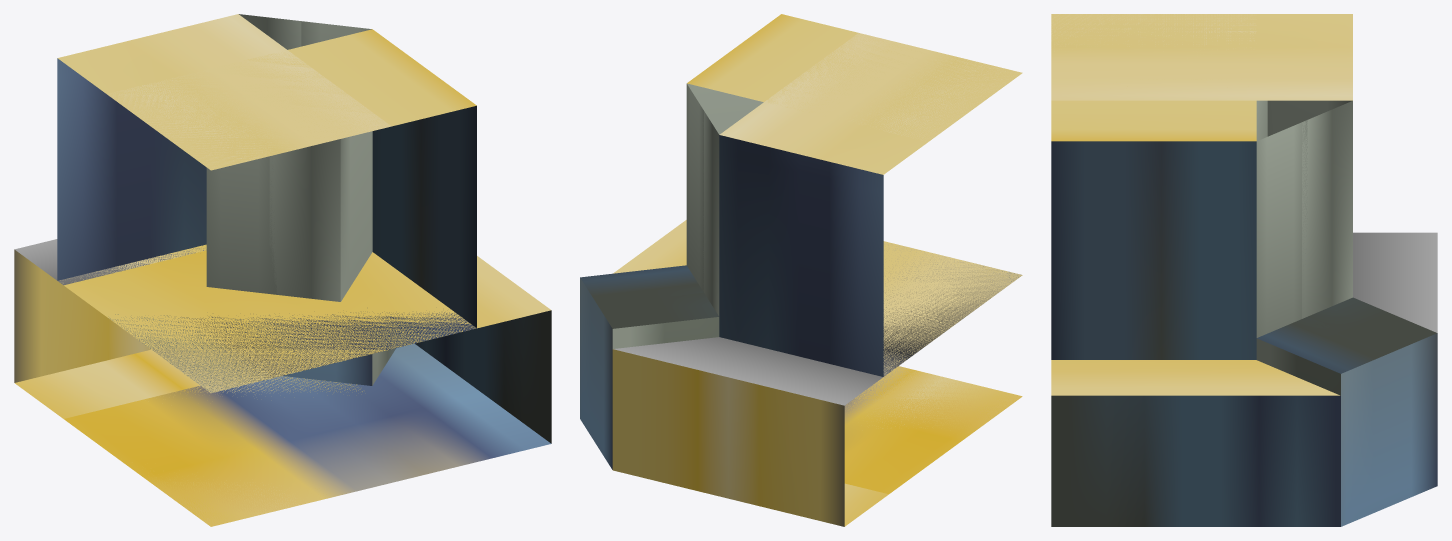
The picture shows the model from 3 angles, left to right: view 1: azimuth 30°, elevation 25°; view 2: azimuth 150°, elevation 25°; view 3: azimuth 270°, elevation 25°; orthographic projection. The views are drawn at different scales.
Visible parts, largest first — view 1: frame; view 2: frame; view 3: frame.
Part boxes in pixels (x1,y1,x2,y2): frame: [14, 14, 551, 526]; frame: [580, 14, 1022, 526]; frame: [1051, 14, 1437, 526].
Bounding box in the file's own units: 1 × 1 × 1.
